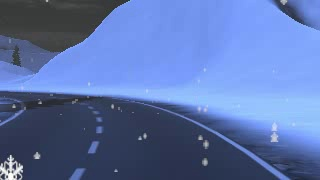Lane: (0, 90, 291, 179)
